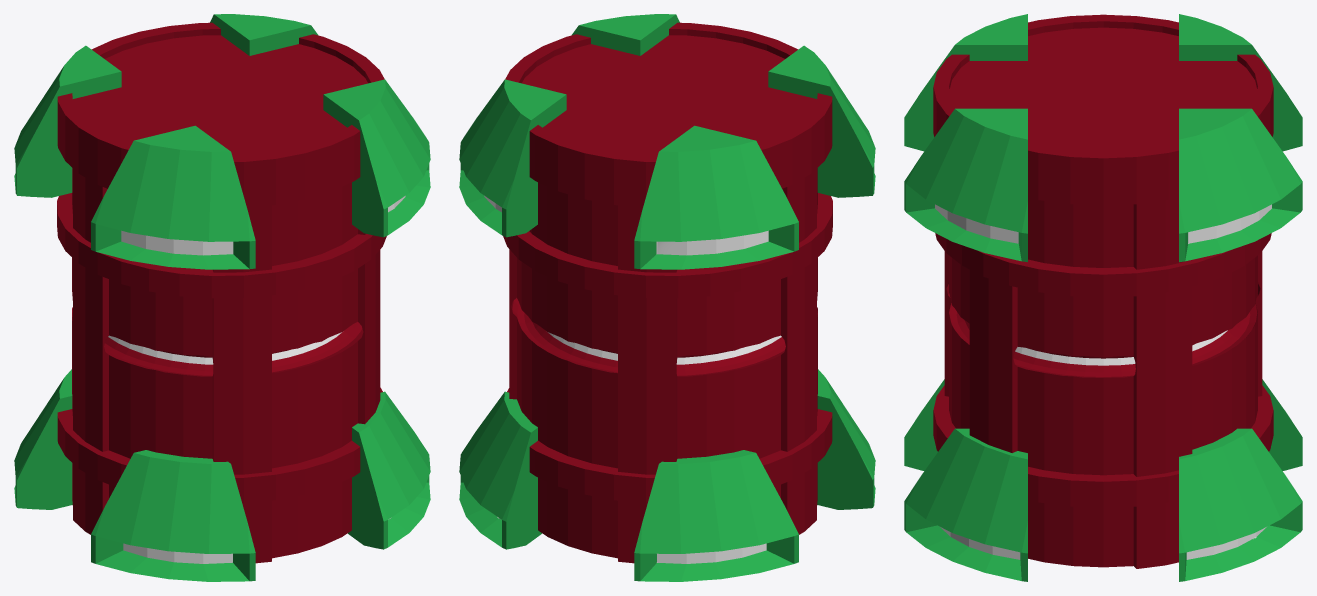
Rendered from barrel.fbx.
3 views of the same model, side by side, from view 1: azimuth 30°, elevation 25°; view 2: azimuth 150°, elevation 25°; view 3: azimuth 270°, elevation 25° (orthographic). The views are drawn at different scales.
Parts seen in each view (by area): view 1: Cylinder, Cylinder.001, Cylinder.002; view 2: Cylinder, Cylinder.001, Cylinder.002; view 3: Cylinder, Cylinder.001, Cylinder.002.
Boxes of the visible parts, <box> form: Cylinder: <box>57,22,386,563</box>; Cylinder.001: <box>14,14,430,269</box>; Cylinder.002: <box>14,369,430,581</box>; Cylinder: <box>503,22,832,563</box>; Cylinder.001: <box>459,14,875,269</box>; Cylinder.002: <box>459,369,875,581</box>; Cylinder: <box>933,14,1273,568</box>; Cylinder.001: <box>904,14,1302,262</box>; Cylinder.002: <box>904,379,1302,581</box>.
Bounding box in the file's own units: 258 × 308 × 258.
